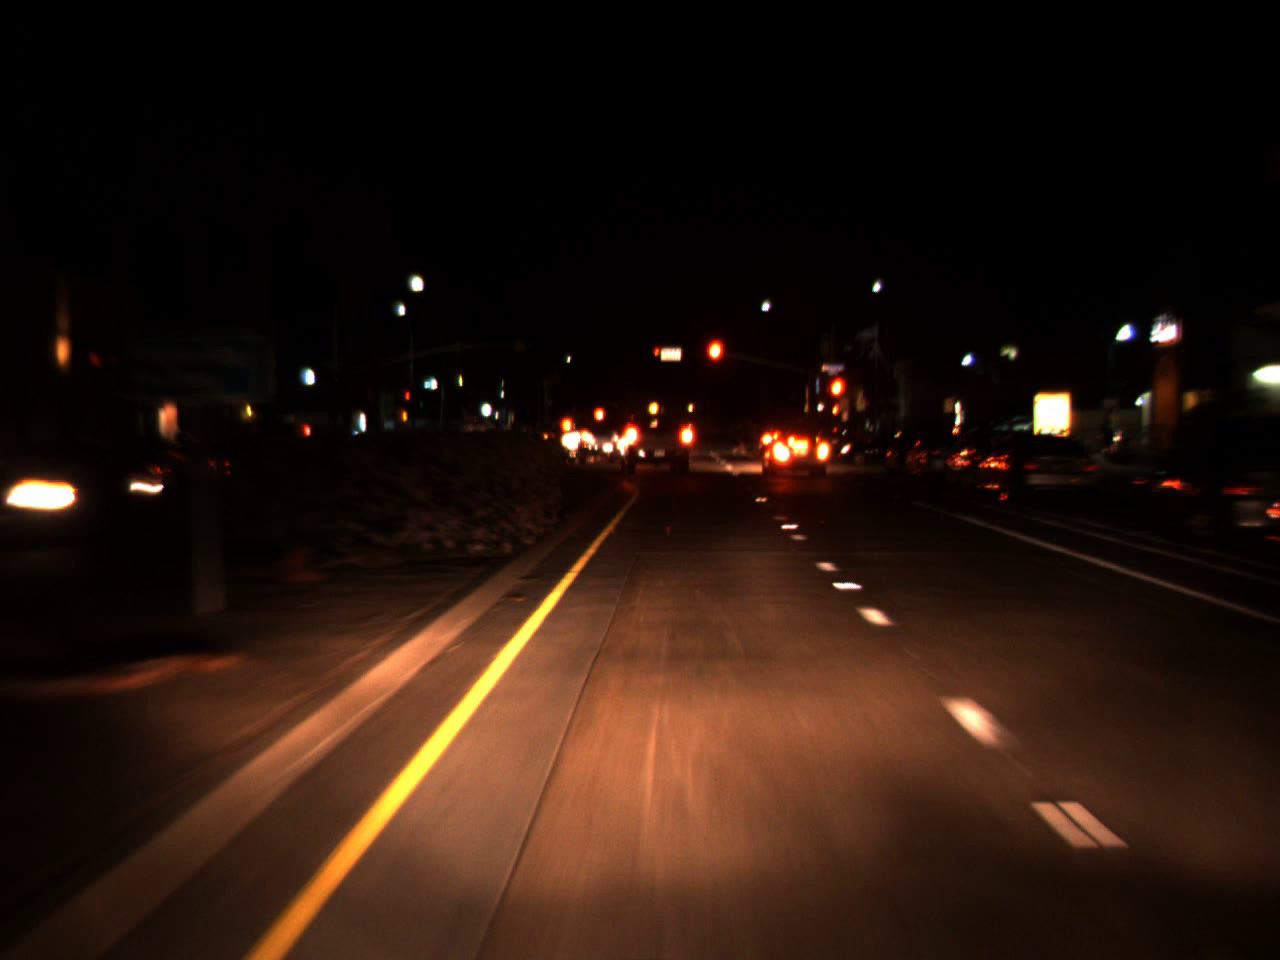stop: (703, 335, 726, 389), (827, 373, 848, 421), (653, 346, 660, 367), (405, 390, 411, 411)
